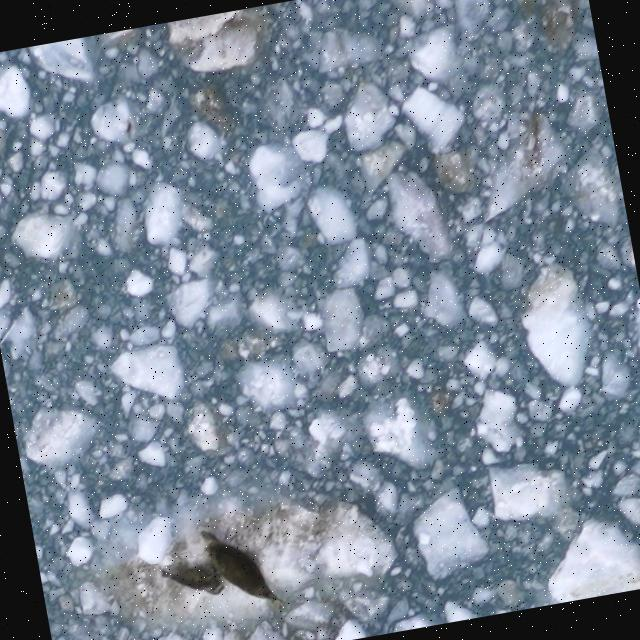seal: (192, 514, 292, 625), (152, 551, 230, 606)
